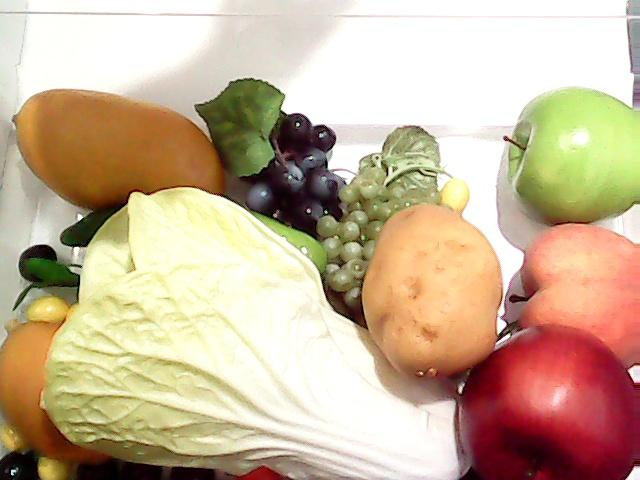apple: (451, 326, 640, 480), (502, 84, 638, 228)
carrot: (233, 463, 288, 480)
grape: (316, 166, 439, 317), (232, 108, 352, 240)
lemon: (0, 318, 96, 448)
mango: (7, 78, 234, 206)
napa cabbage: (35, 186, 489, 474)
peach: (508, 222, 640, 374)
pepper: (54, 184, 330, 284)
potato: (362, 201, 502, 382)
